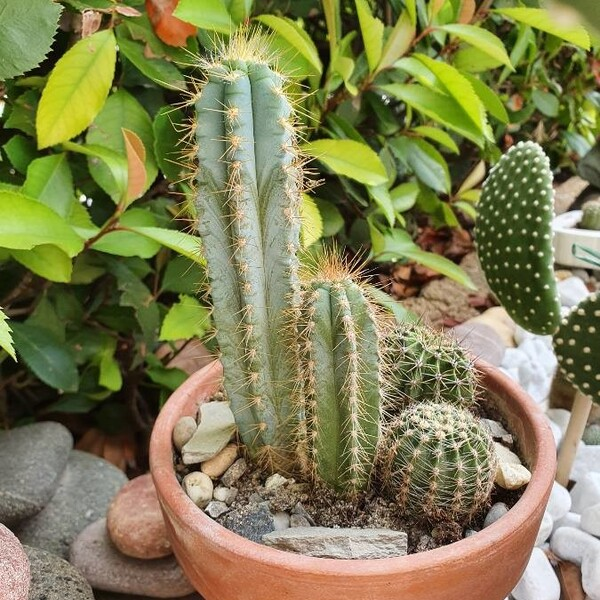obstacle: (136, 23, 556, 575)
